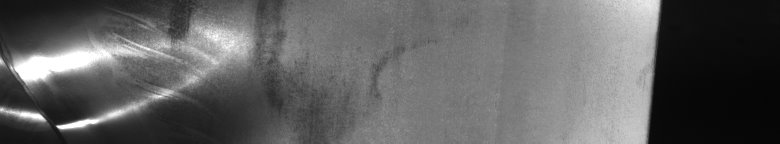ke: (4, 16, 198, 136)
